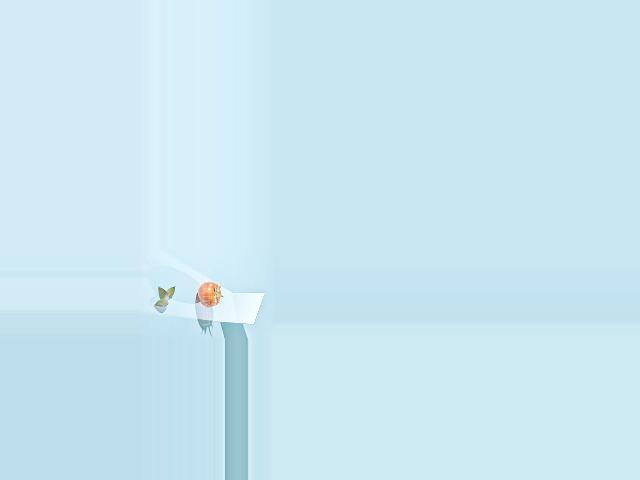tomato: (197, 281, 221, 307)
